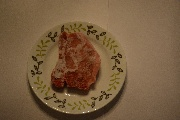beef: (51, 31, 101, 90)
